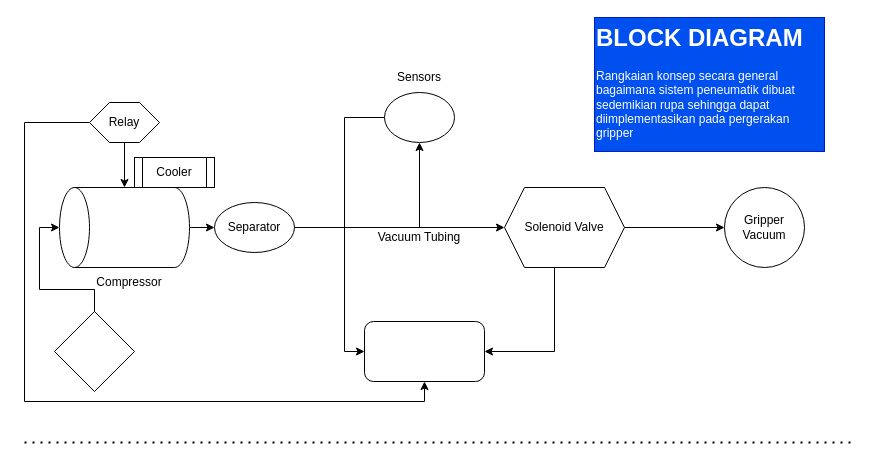
Some shapes in this 874 by 462 pixel diagram are drawn without their labels. Here are the shapes that lost their labels. From the top down, the centre of each, then its label:
[419,117]: Pressure Gauge
[94,351]: Air Filter
[424,351]: Controller
